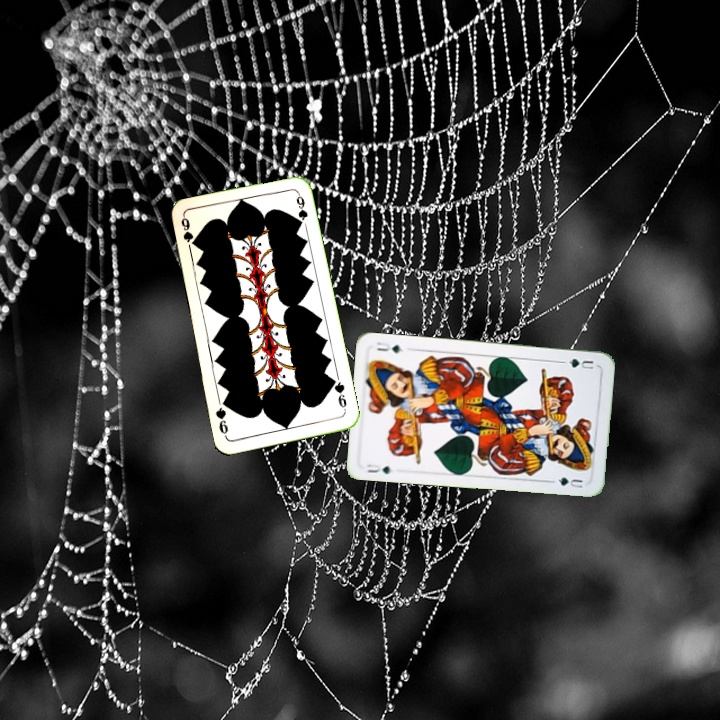G9: (328, 375, 349, 414), (177, 213, 195, 254)
GU: (564, 354, 596, 372), (362, 460, 393, 477)
